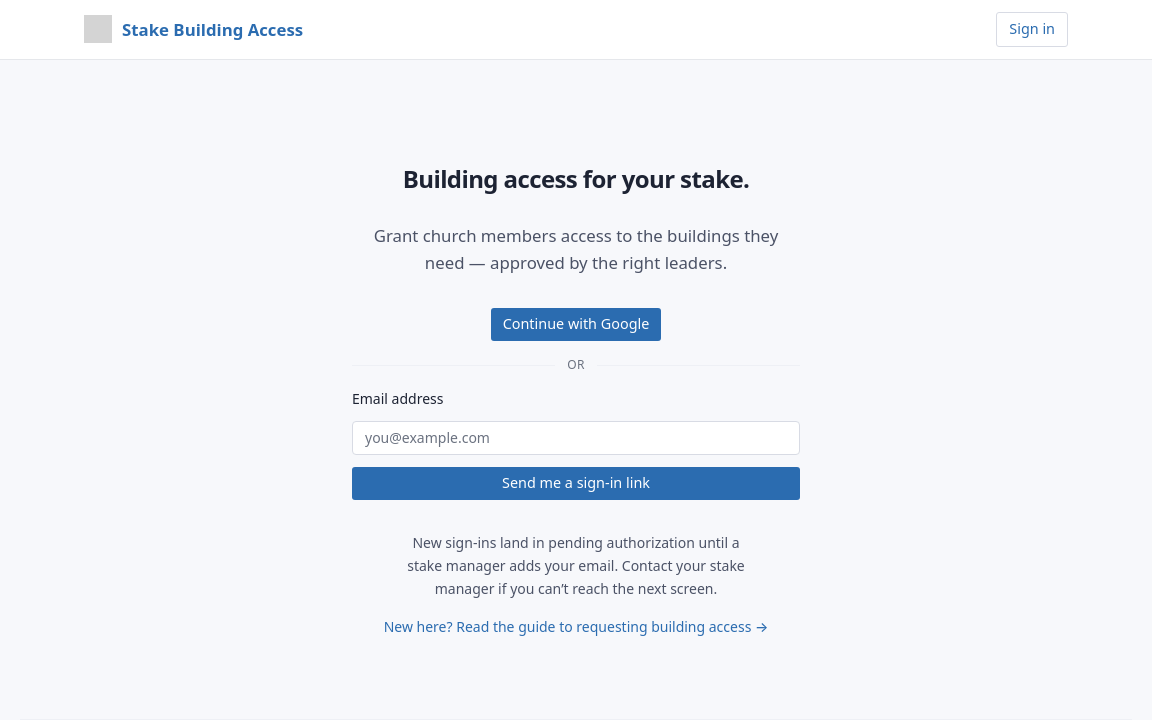
Test: SignInPage — both providers › shows an inline error and does not submit when the email is empty
The width and height of the screenshot is (1152, 720).
Click the button "Send me a sign-in link": coordinates (576, 484) [352,467,800,500]
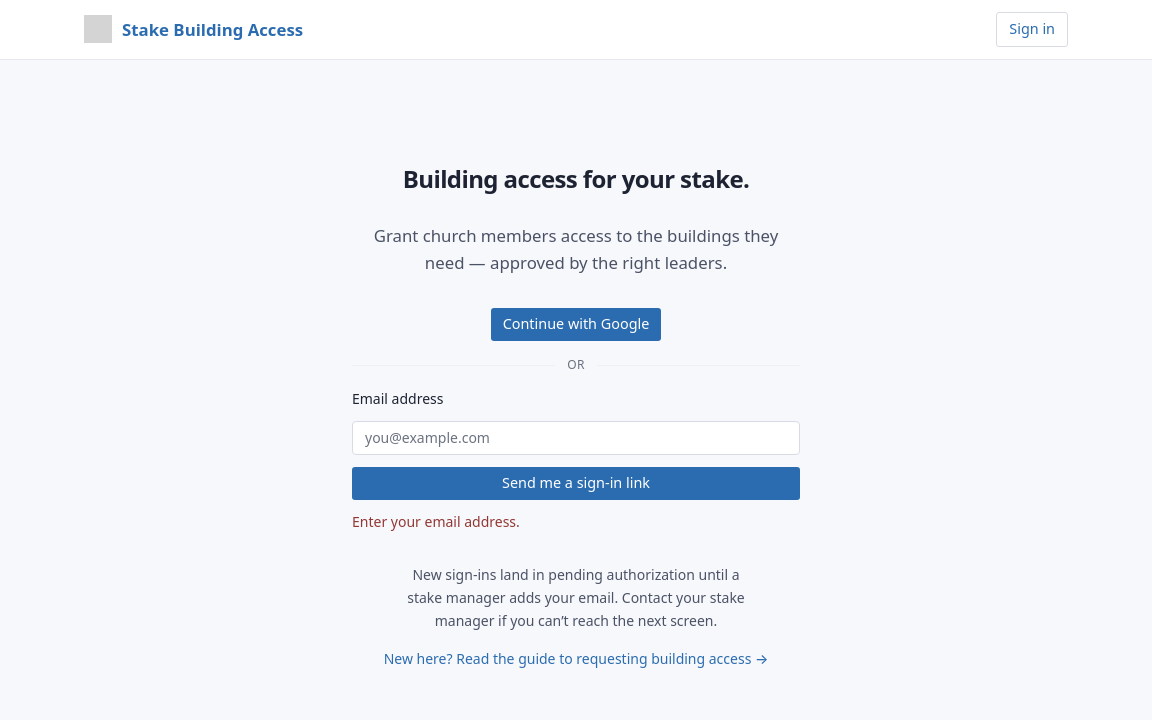
expect the message shows "Enter your email": met, box [352,512,520,531]
